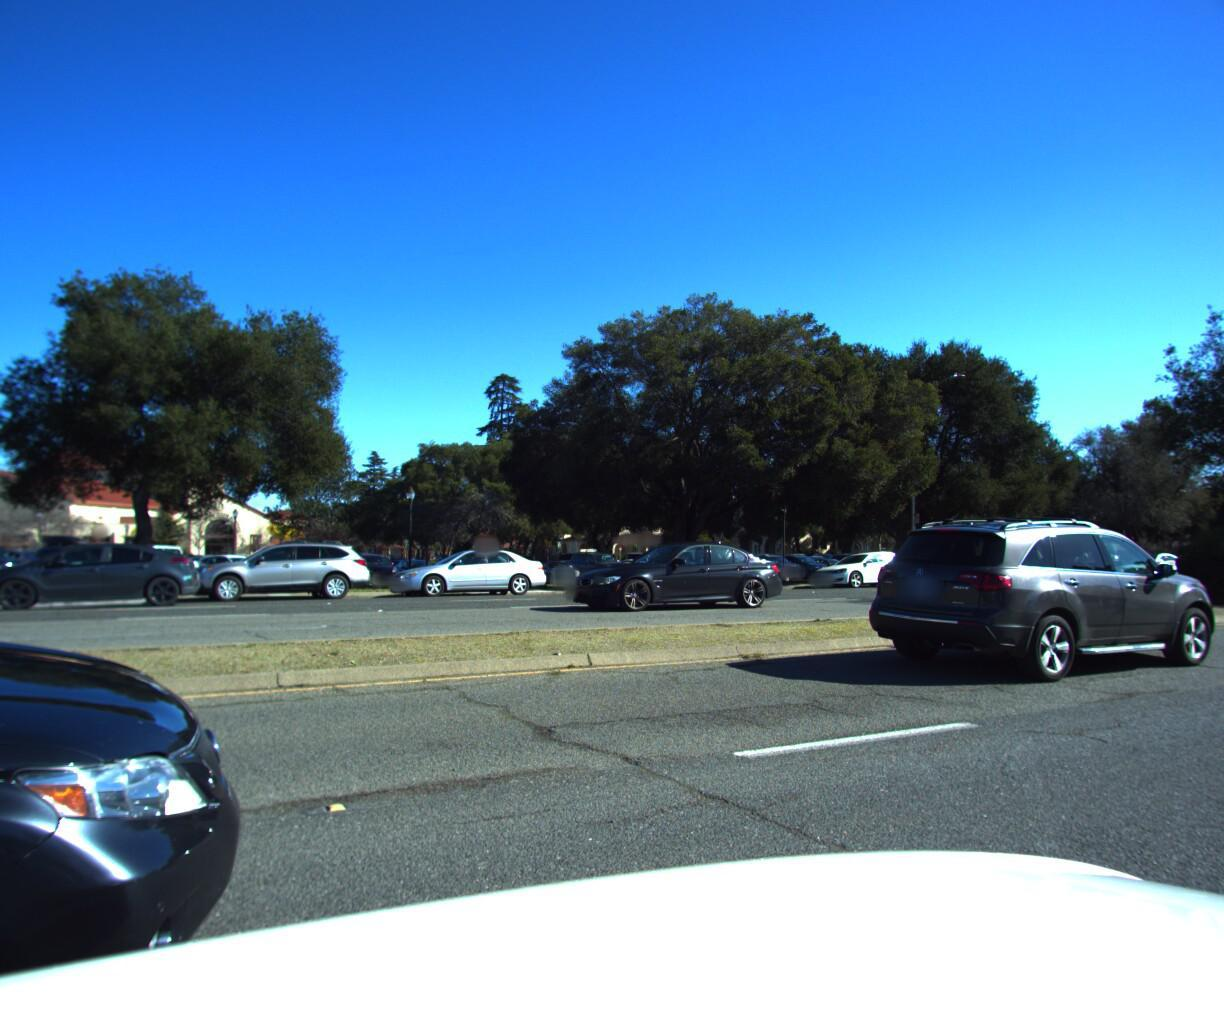car: (841, 505, 1215, 687), (546, 540, 781, 615), (0, 539, 204, 614), (174, 535, 378, 608), (378, 545, 556, 600), (795, 546, 929, 589), (1094, 545, 1189, 577), (0, 540, 17, 618)
